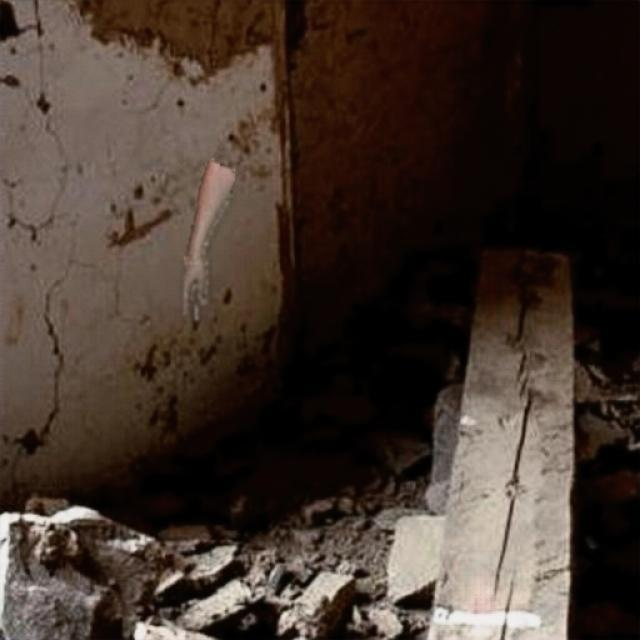Person in Rubble: (184, 159, 234, 319)
